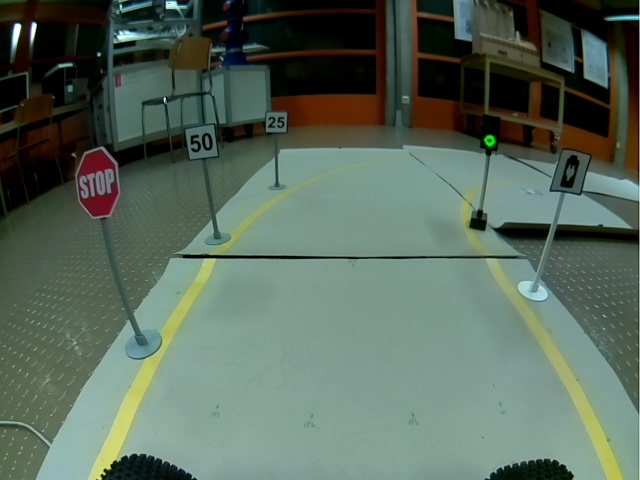battery: (548, 148, 592, 196)
speed25: (265, 111, 288, 134)
speed50: (184, 123, 220, 160)
stop: (75, 147, 120, 219)
trafficLightGreen: (480, 114, 500, 151)
